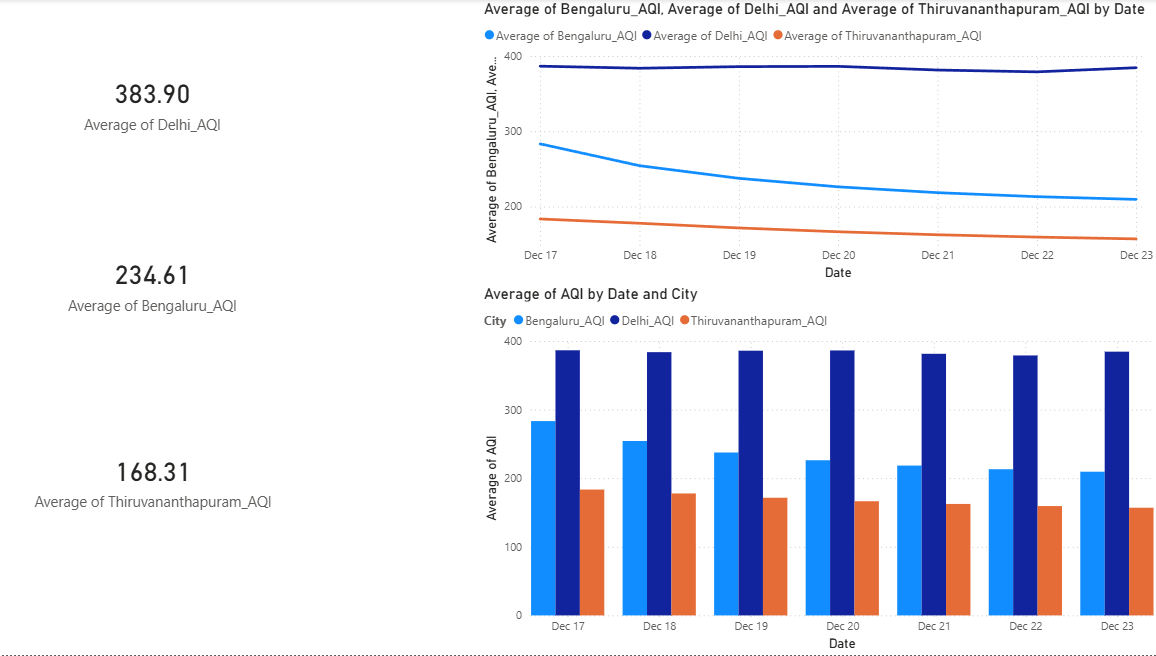

The dashboard page shown, as its layout file describes it:
{"tool":"powerbi","page":{"name":"Page 1","canvas":[1280,720],"ordinal":0},"visuals":[{"type":"clusteredColumnChart","fields":{"Y":["Sum(aqi_7day_forecast_comparison.AQI)"],"Category":["aqi_7day_forecast_comparison.Date"],"Series":["aqi_7day_forecast_comparison.City"]},"box":[535.2,312.9,745.1,407.5],"z":4},{"type":"lineChart","fields":{"Y":["Avg(aqi_7day_forecast_comparison (2).Bengaluru_AQI)","Avg(aqi_7day_forecast_comparison (2).Delhi_AQI)","Avg(aqi_7day_forecast_comparison (2).Thiruvananthapuram_AQI)"],"Category":["aqi_7day_forecast_comparison (2).Date"]},"box":[535.2,0,745.1,312.9],"z":5},{"type":"card","fields":{"Values":["Avg(aqi_7day_forecast_comparison (2).Delhi_AQI)"]},"box":[0,0,352.7,226.4],"z":6},{"type":"card","fields":{"Values":["Avg(aqi_7day_forecast_comparison (2).Bengaluru_AQI)"]},"box":[0,209.9,352.7,204.5],"z":7},{"type":"card","fields":{"Values":["Avg(aqi_7day_forecast_comparison (2).Thiruvananthapuram_AQI)"]},"box":[26.1,414.4,301.9,226.4],"z":8}]}

Visuals, with their boxes in screenshot pixels (x1, y1, x2, y2), scaled from the page's 1280x720 canvas onto the 1156x656 screenshot:
clusteredColumnChart - Sum(aqi_7day_forecast_comparison.AQI) x aqi_7day_forecast_comparison.Date: {"x1": 483, "y1": 285, "x2": 1155, "y2": 655}
lineChart - Avg(aqi_7day_forecast_comparison (2).Bengaluru_AQI) x Avg(aqi_7day_forecast_comparison (2).Delhi_AQI): {"x1": 483, "y1": 0, "x2": 1155, "y2": 285}
card - Avg(aqi_7day_forecast_comparison (2).Delhi_AQI): {"x1": 0, "y1": 0, "x2": 319, "y2": 206}
card - Avg(aqi_7day_forecast_comparison (2).Bengaluru_AQI): {"x1": 0, "y1": 191, "x2": 319, "y2": 378}
card - Avg(aqi_7day_forecast_comparison (2).Thiruvananthapuram_AQI): {"x1": 24, "y1": 378, "x2": 296, "y2": 584}
